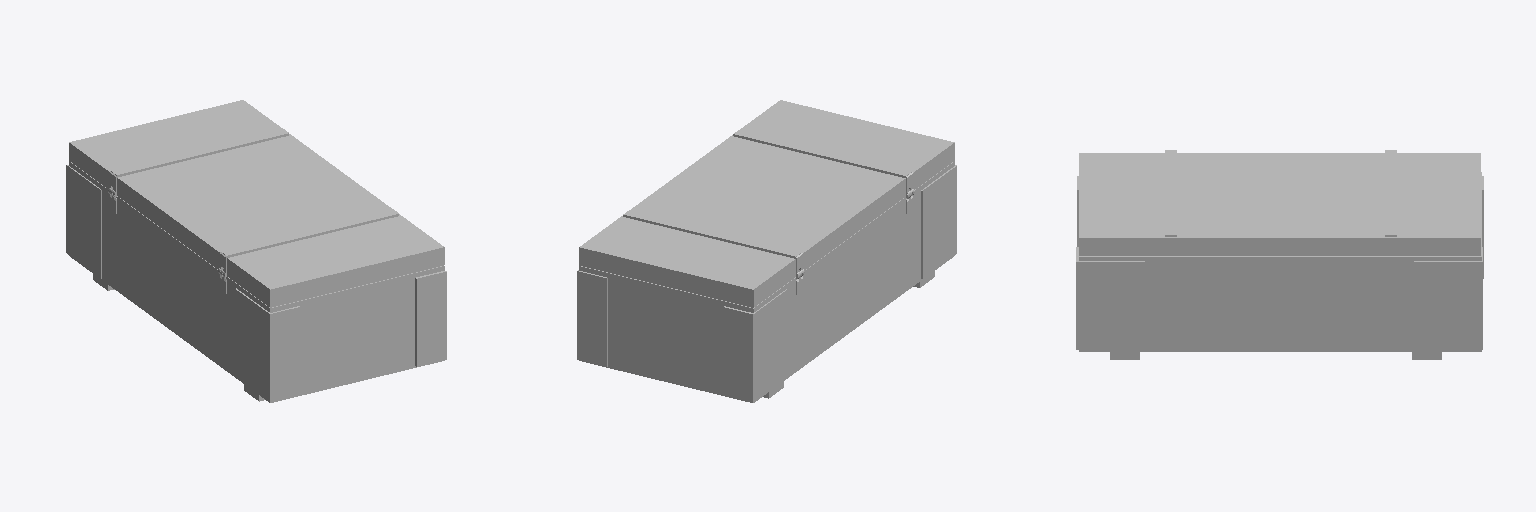
The model's file is spawner_gun_box_med_standart_1.obj.
The picture shows the model from 3 angles: view 1: azimuth 30°, elevation 25°; view 2: azimuth 150°, elevation 25°; view 3: azimuth 270°, elevation 25°; orthographic projection.
Parts seen in each view (by area): view 1: Cube.002; view 2: Cube.002; view 3: Cube.002.
Part boxes in pixels (x1,y1,x2,y2): Cube.002: (66,100,446,402); Cube.002: (577,100,956,402); Cube.002: (1076,150,1483,359).
Size of the model in its own units: 2.04 by 1.39 by 4.06.